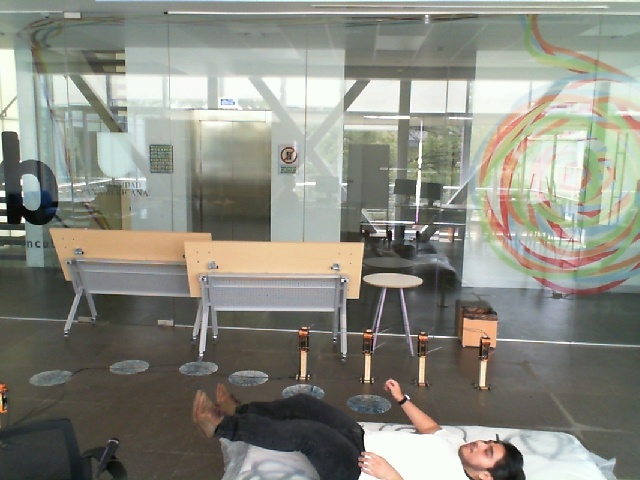fall: (176, 370, 532, 480)
